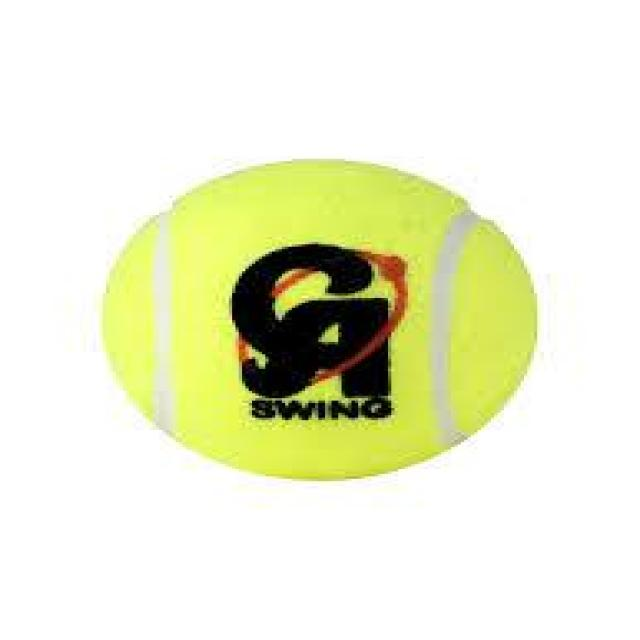ball: (96, 151, 554, 485)
